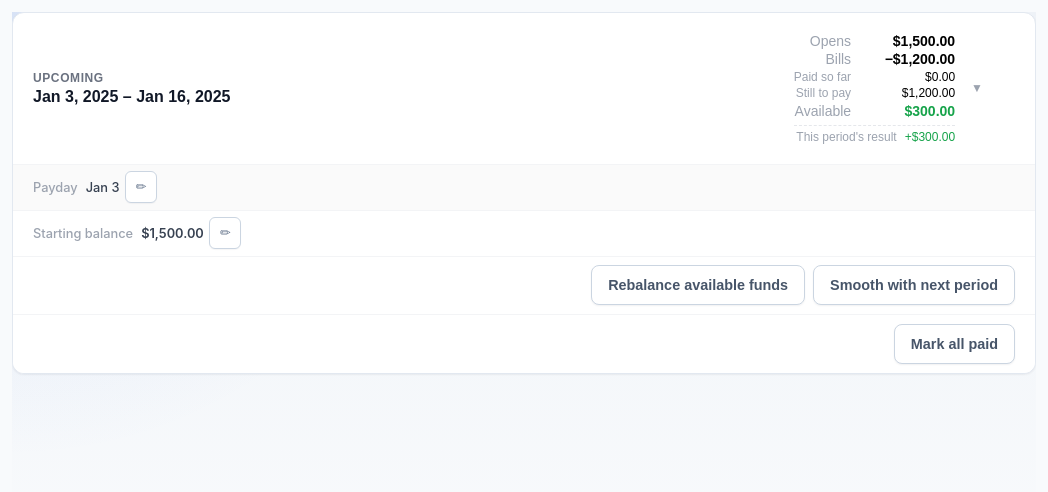
Test: PeriodCard › expands on click when collapsed
The width and height of the screenshot is (1048, 492).
Click the button "Upcoming": {"x": 524, "y": 88} [13,13,1035,164]
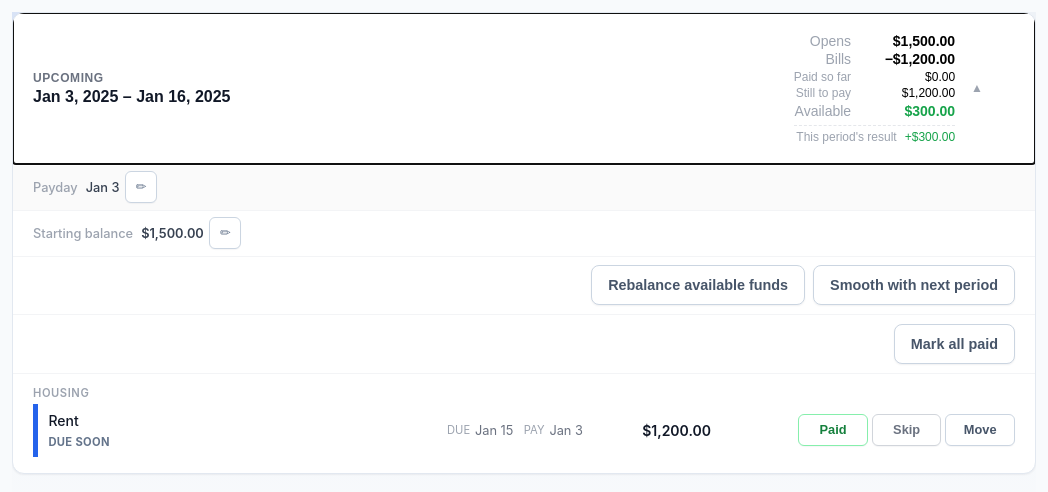
Check: the text "Rent" is shown, box [48,412,79,429]
